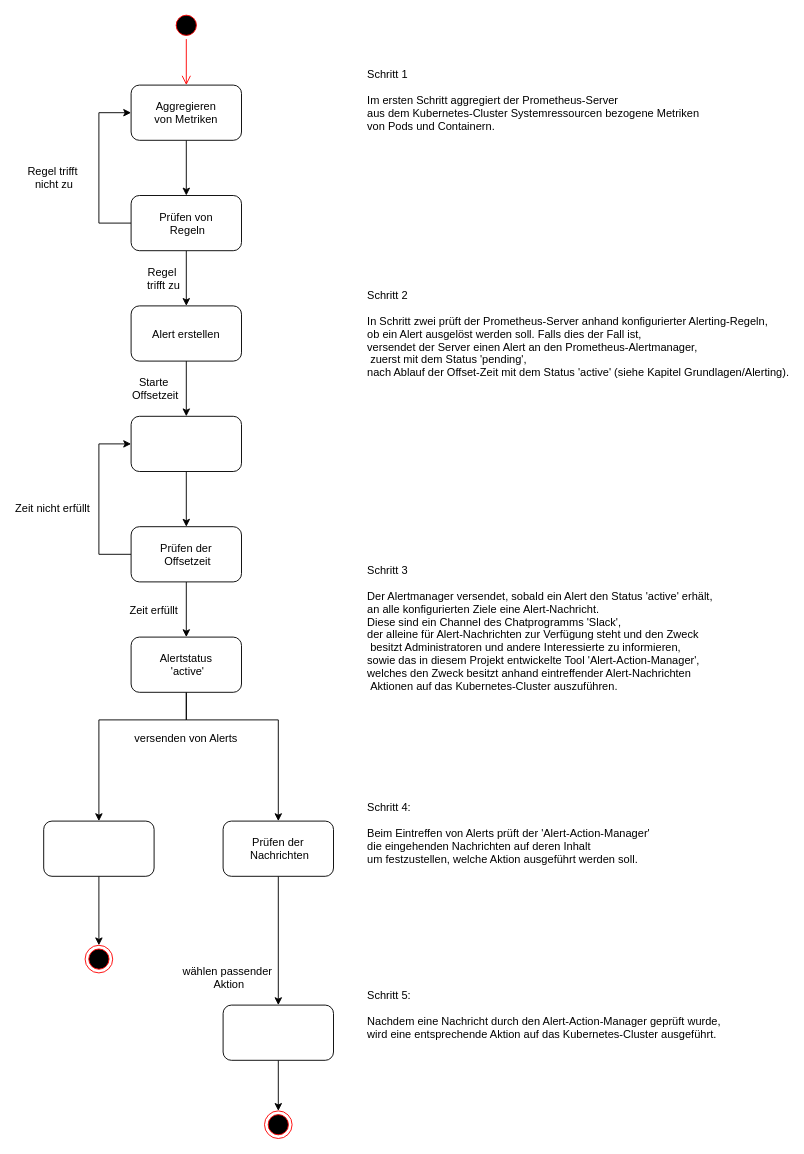
This 804x1154 diagram has some shape labels left out. The box of each missing label's shape, as (x1, y1, x2, y2) in pixels:
Alertstatus 'pending': (130, 415, 242, 472)
Ausführen von Aktionen: (222, 1004, 334, 1060)
Chat-Target: (43, 820, 154, 876)
